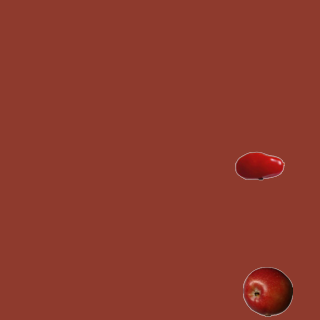Apple Braeburn: (242, 266, 292, 316)
Tomato 2: (234, 140, 284, 190)
